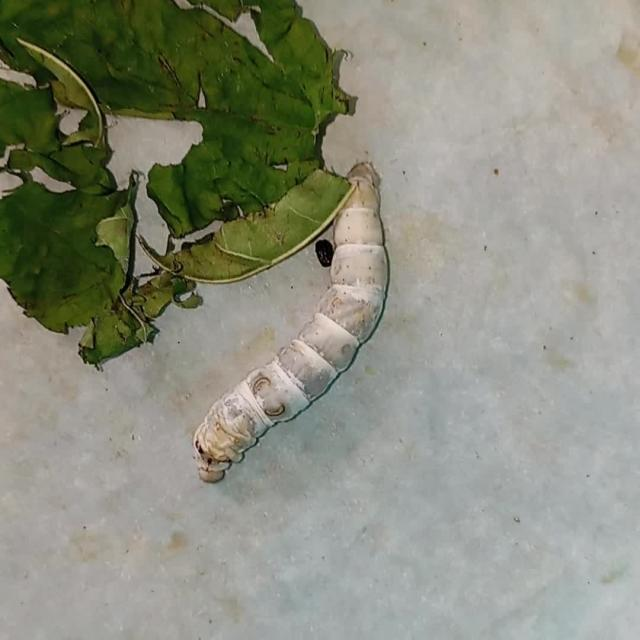Grasserie: (170, 125, 408, 504)
